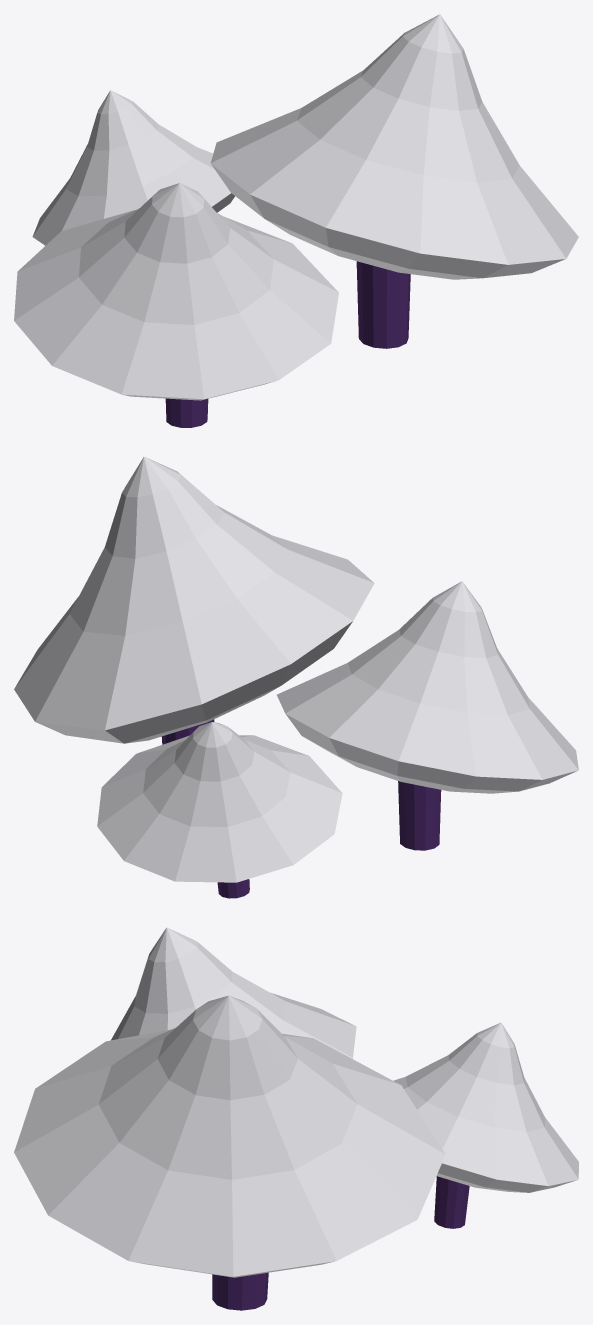
File: Asset_RessForest_Mushroom.fbx
3 views of the same model, one above another, from view 1: azimuth 30°, elevation 25°; view 2: azimuth 150°, elevation 25°; view 3: azimuth 270°, elevation 25° (orthographic). The views are drawn at different scales.
Visible parts, largest first — view 1: Asset_RessForest_mushroom; view 2: Asset_RessForest_mushroom; view 3: Asset_RessForest_mushroom.
Boxes of the visible parts, box(x1,y1,x2,y2) form: Asset_RessForest_mushroom: box(14, 14, 578, 427); Asset_RessForest_mushroom: box(14, 456, 578, 898); Asset_RessForest_mushroom: box(14, 927, 578, 1310).
Size of the model in its own units: 40.11 by 24.89 by 36.27.
